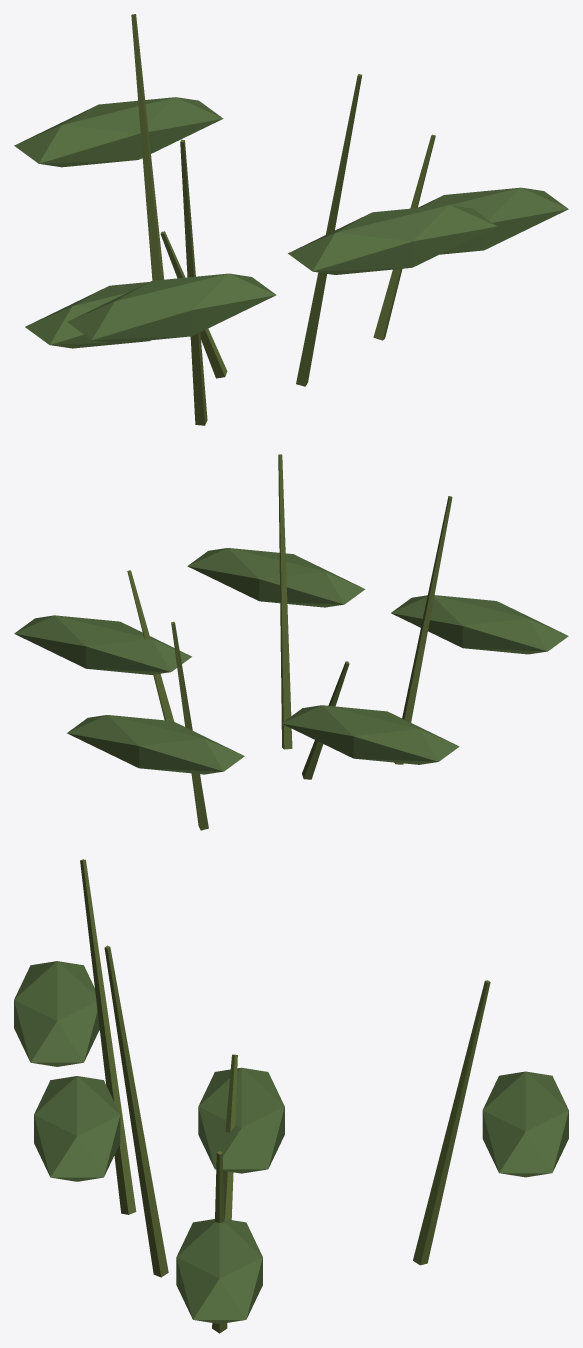
Rendered from fern-far.glb.
3 views of the same model, one above another, from view 1: azimuth 30°, elevation 25°; view 2: azimuth 150°, elevation 25°; view 3: azimuth 270°, elevation 25° (orthographic). The views are drawn at different scales.
Visible parts, largest first — view 1: world-scenery/fern-far; view 2: world-scenery/fern-far; view 3: world-scenery/fern-far.
Boxes of the visible parts, x1=… form: world-scenery/fern-far: x1=14, y1=14, x2=568, y2=425; world-scenery/fern-far: x1=14, y1=454, x2=568, y2=830; world-scenery/fern-far: x1=14, y1=859, x2=568, y2=1333.
Bounding box in the file's own units: 1.63 × 0.903 × 1.31.
